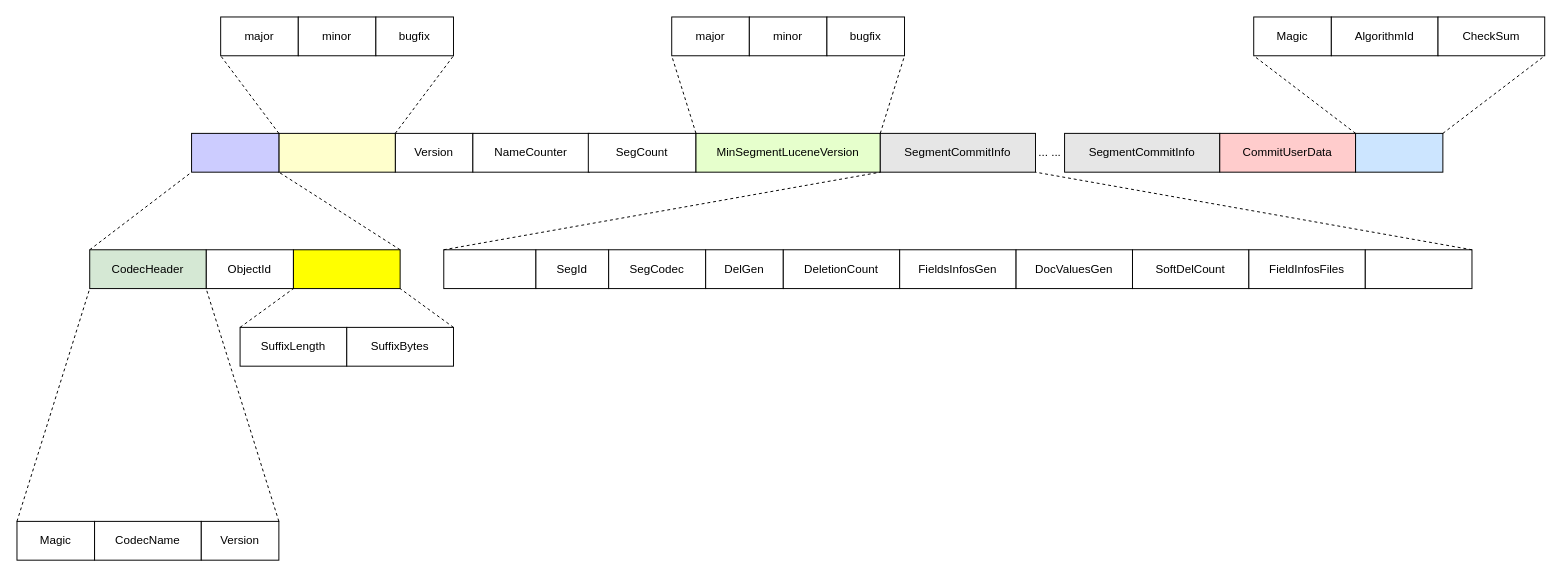
The diagram is 1563 pixels wide and 577 high, and some of its shapes have lost their labels. Here are the shapes that lost their labels. From the top down, the centre of each, then its label:
the point at 235,152: Header
the point at 336,152: LuceneVersion
the point at 1399,152: Footer
the point at 346,269: ObjectSuffix
the point at 489,269: SegName
the point at 1418,269: UpdatesFiles
